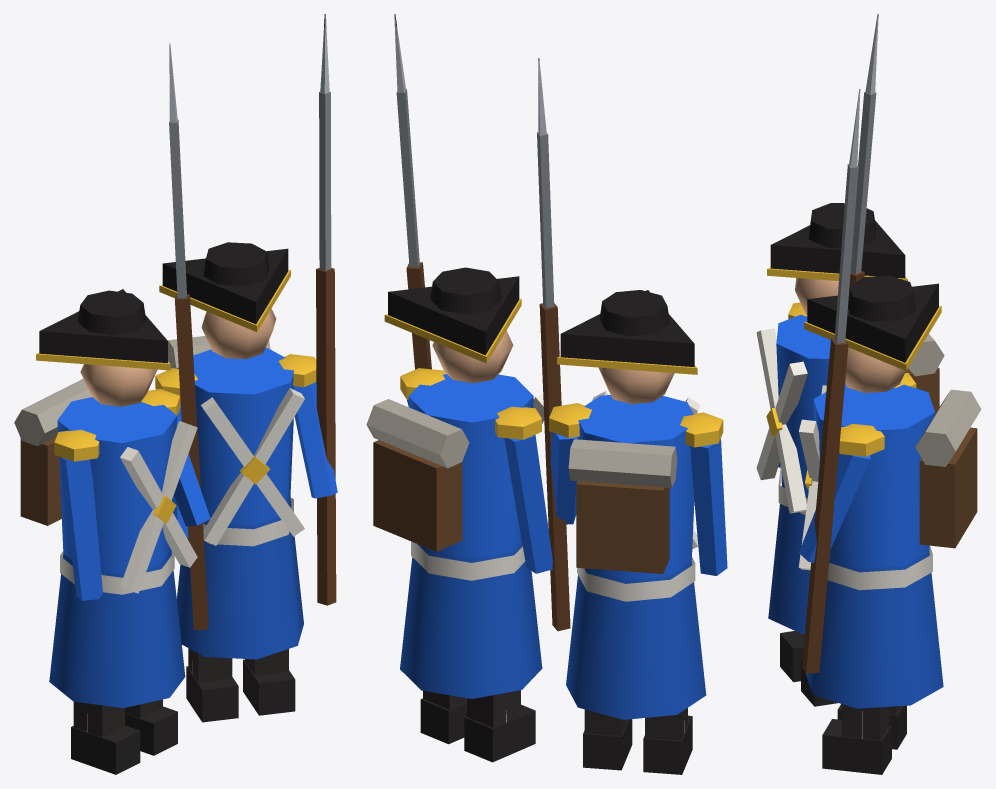
Rendered from sentry_dl4_blue.glb.
3 renders of one model, left to right at view 1: azimuth 30°, elevation 25°; view 2: azimuth 150°, elevation 25°; view 3: azimuth 270°, elevation 25°, orthographic. The views are drawn at different scales.
Parts seen in each view (by area): view 1: sentry_dl4_blue; view 2: sentry_dl4_blue; view 3: sentry_dl4_blue.
Boxes of the visible parts, x1,y1,x2,y2 form: sentry_dl4_blue: (14,14,337,774); sentry_dl4_blue: (366,14,727,774); sentry_dl4_blue: (756,14,981,774).
Bounding box in the file's own units: 0.2716 × 0.5985 × 0.1734.
1 material, 1 textured.
